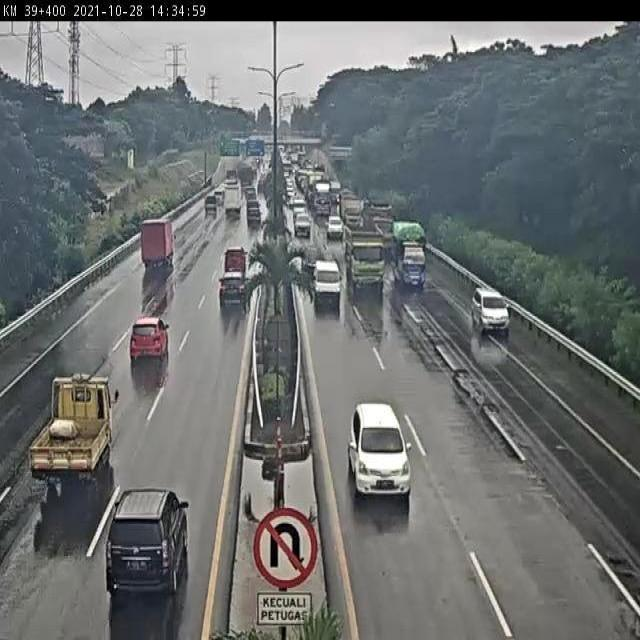big truck: (348, 232, 389, 307)
car: (105, 482, 189, 602), (348, 401, 415, 504), (128, 312, 175, 371), (468, 280, 512, 343), (315, 260, 346, 315), (216, 269, 244, 320), (219, 245, 251, 280), (328, 214, 345, 247), (302, 245, 319, 271), (295, 214, 313, 238)
small truck: (29, 371, 116, 497), (136, 211, 186, 284), (391, 223, 429, 300)
